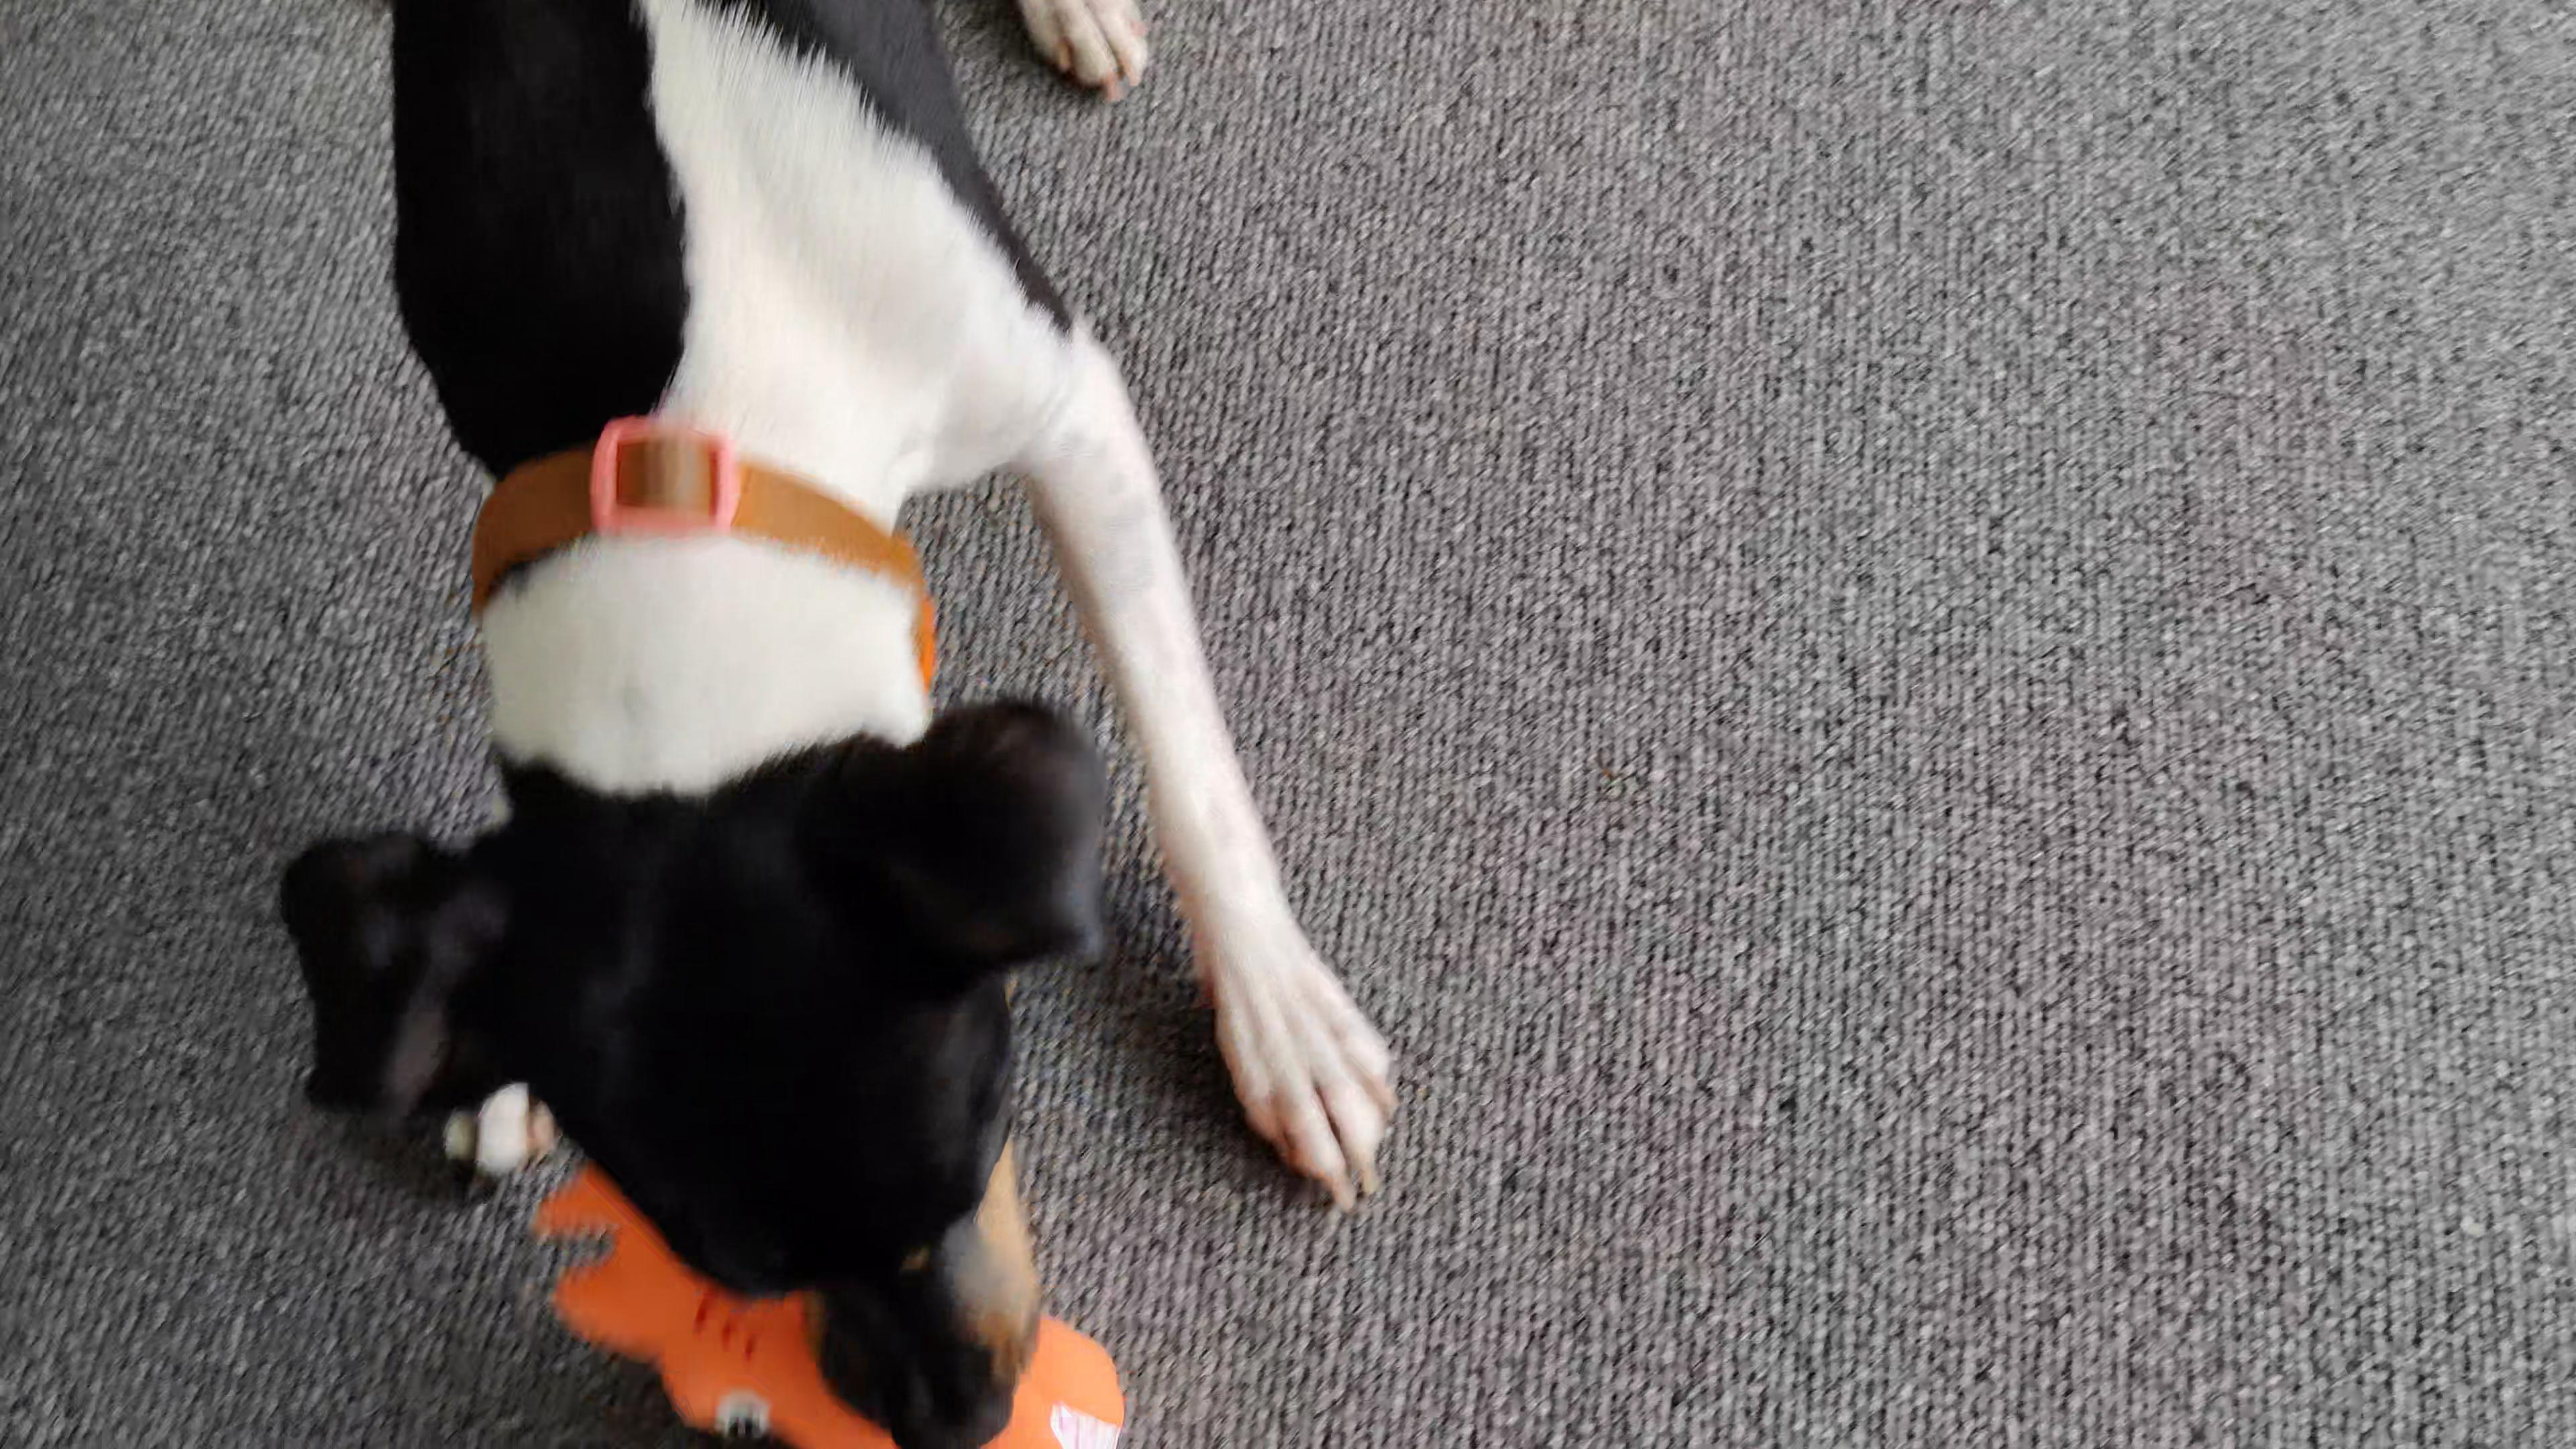Dog: (267, 0, 1405, 1449)
